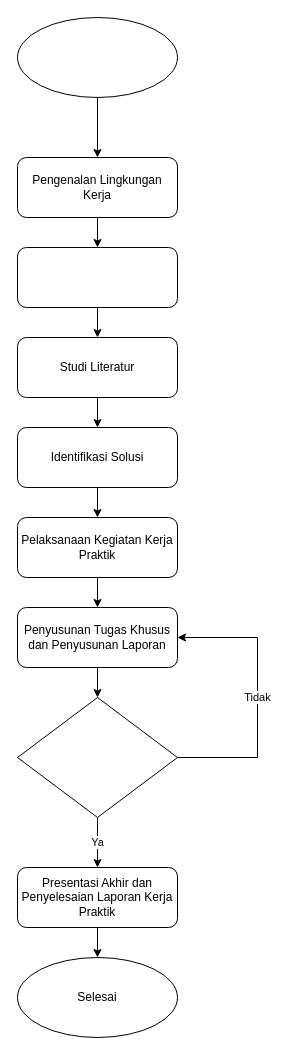
Some shapes in this 288 by 1055 pixel diagram are drawn without their labels. The shapes that lost their labels are listed below. From the top down, each one's box as (x1, y1, x2, y2) in pixels, then its label:
(16, 16, 178, 98): Mulai
(16, 246, 178, 308): Identifikasi Masalah
(16, 696, 178, 818): Laporan Kerja Praktik Sudah benar?
